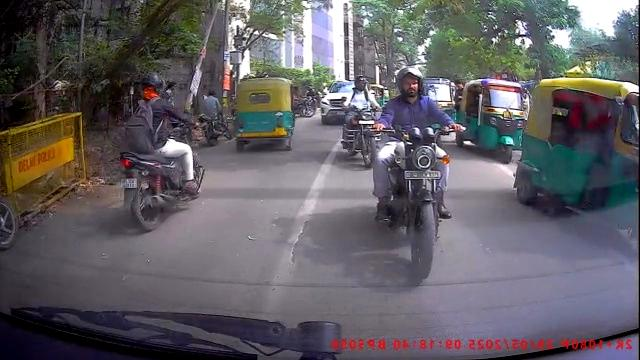motorcycle_with_helmet: (371, 65, 468, 279), (119, 70, 207, 233), (341, 74, 375, 170)
